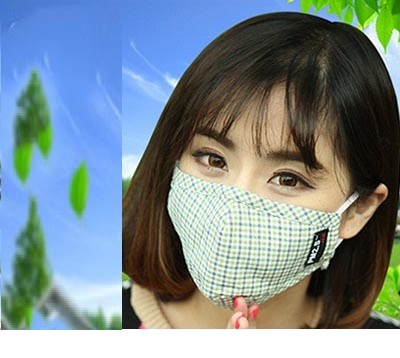face_mask: (173, 90, 348, 292)
